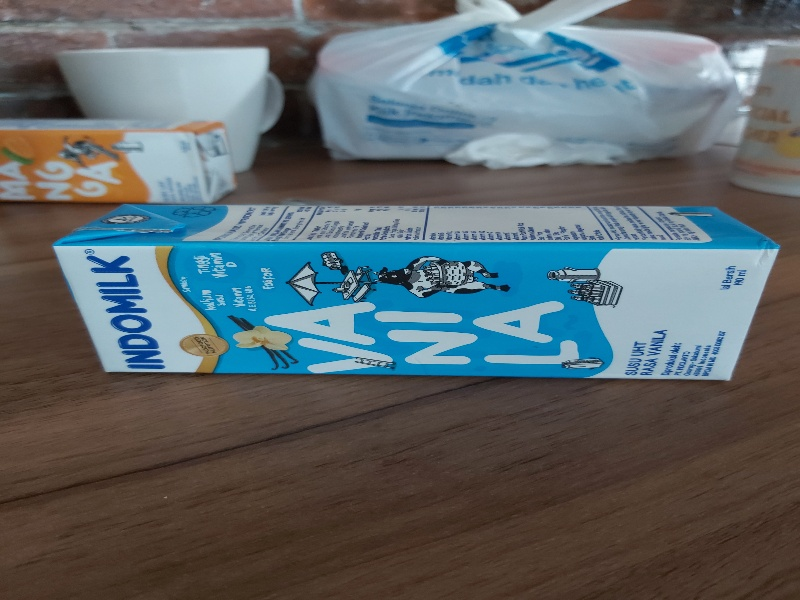vanilla: (51, 204, 783, 383)
